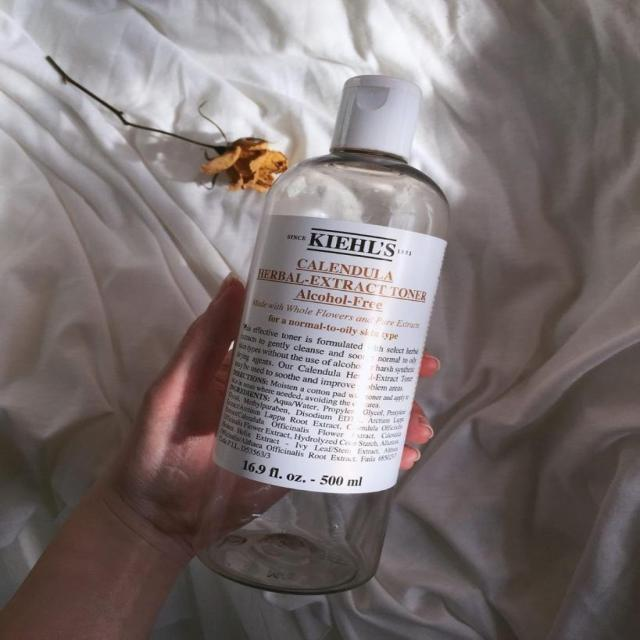plastic: (198, 73, 449, 595)
